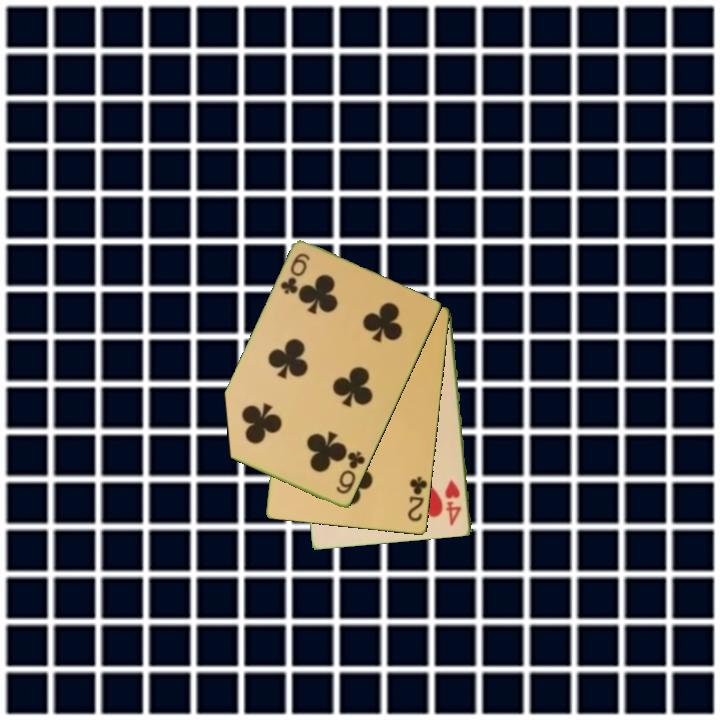2c: (405, 473, 430, 525)
4h: (442, 476, 464, 528)
6c: (333, 448, 368, 498), (277, 250, 313, 298)
